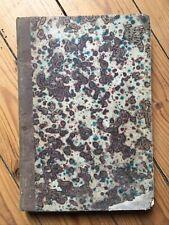paper: (18, 16, 154, 212)
